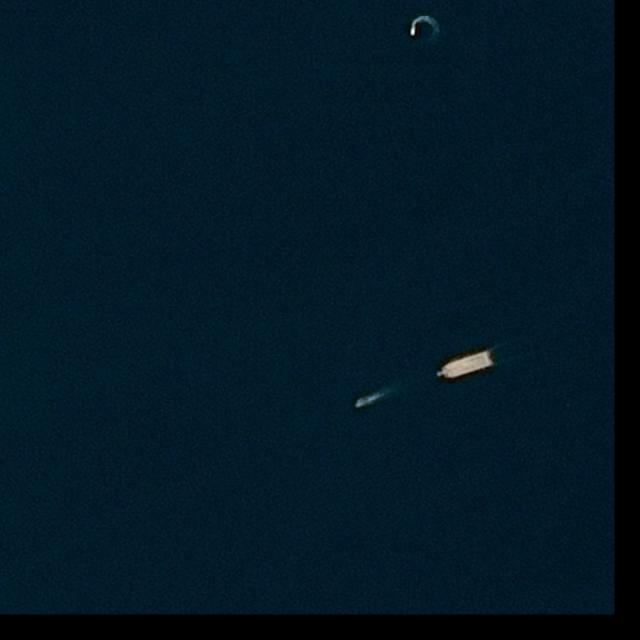ship: (434, 349, 495, 385), (354, 400, 365, 408), (410, 26, 417, 38)
